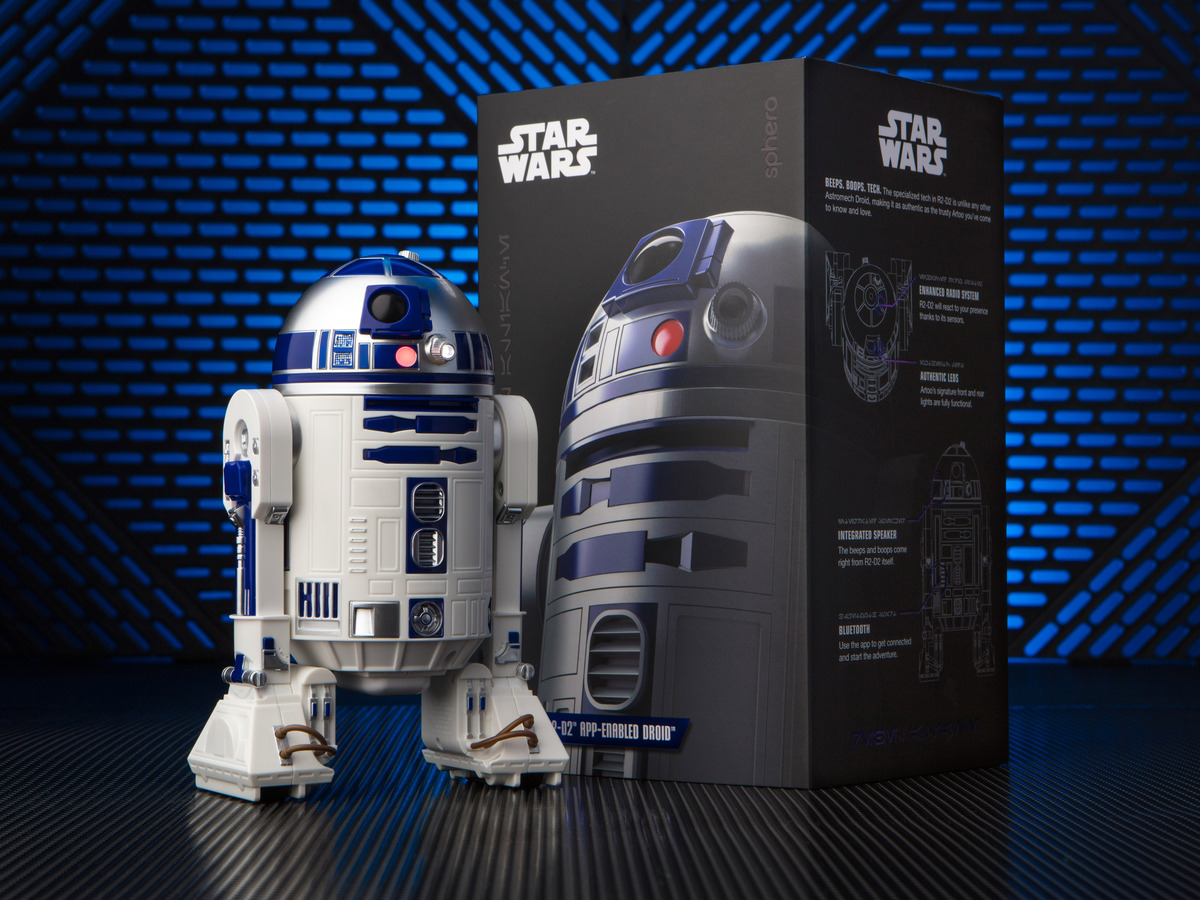r2d2: (191, 256, 569, 786), (559, 209, 806, 781)
